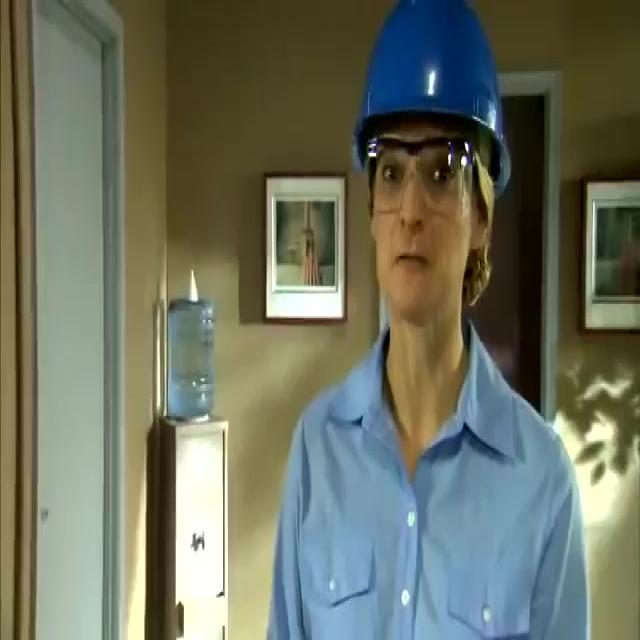Safety-Helmet: (345, 2, 516, 192)
